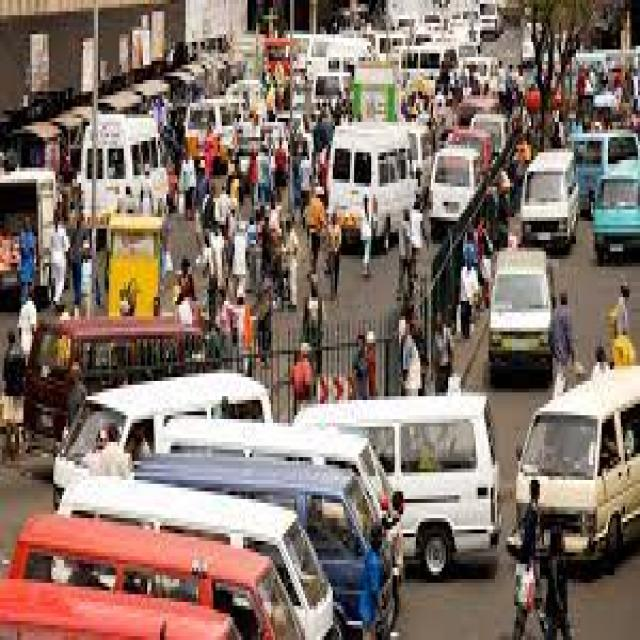MiniBus taxi: (514, 404, 619, 583), (480, 240, 565, 392), (514, 152, 578, 255), (591, 160, 640, 274)
Pedestrians: (510, 472, 548, 636), (382, 480, 416, 636), (548, 510, 580, 640), (356, 518, 388, 636), (599, 282, 636, 347)
